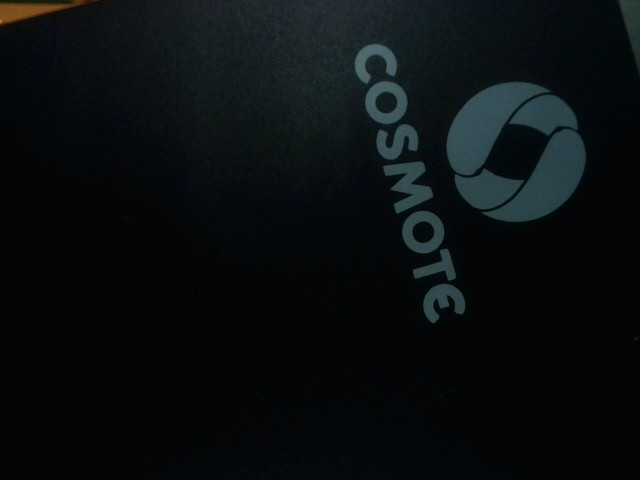AU_COSMOTE: (347, 45, 594, 326)
